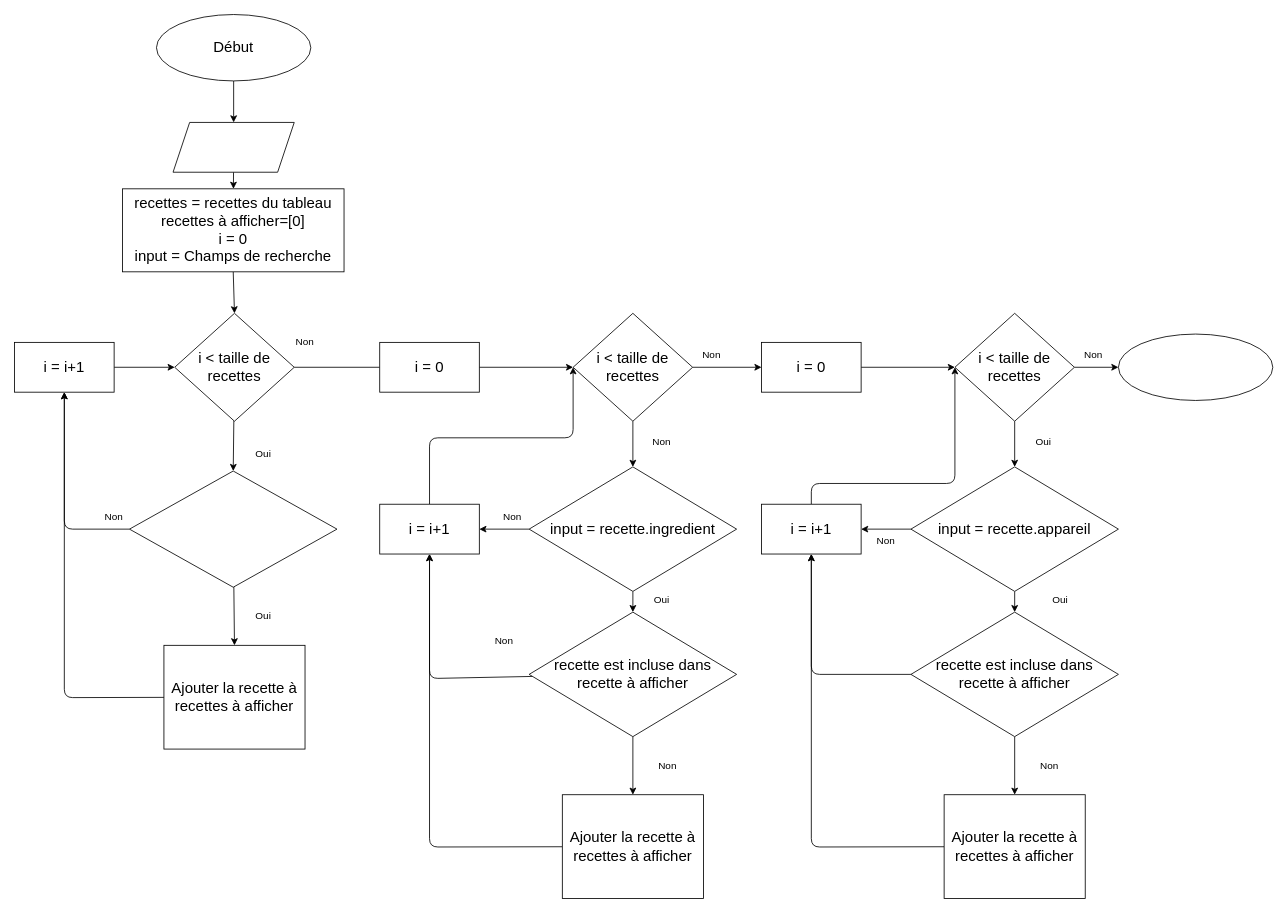
Image size: 1287x913. Some labels were removed from this diagram. Here are the shapes that lost their labels. From the top down, the centre of each, then its label:
point (233, 147): Champs de recherche
point (1195, 366): Fin
point (233, 528): input = recette.ustensile
